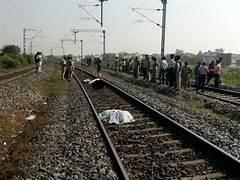Dust_screen: (98, 107, 135, 126)
